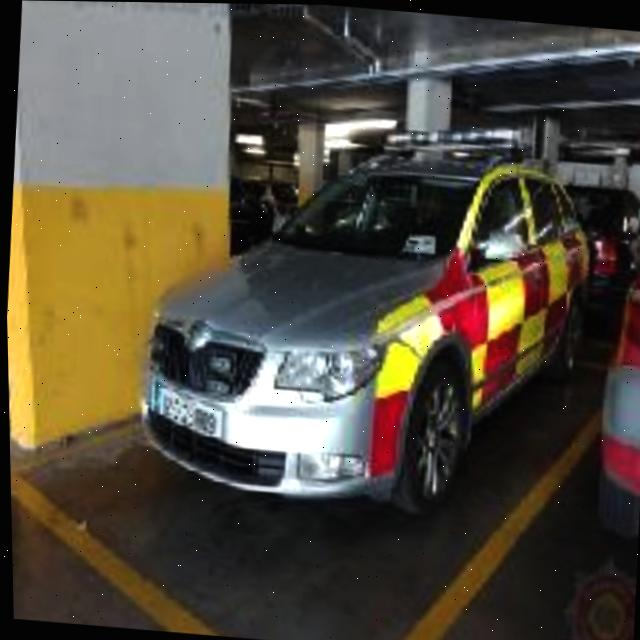emergency: (104, 59, 606, 531)
